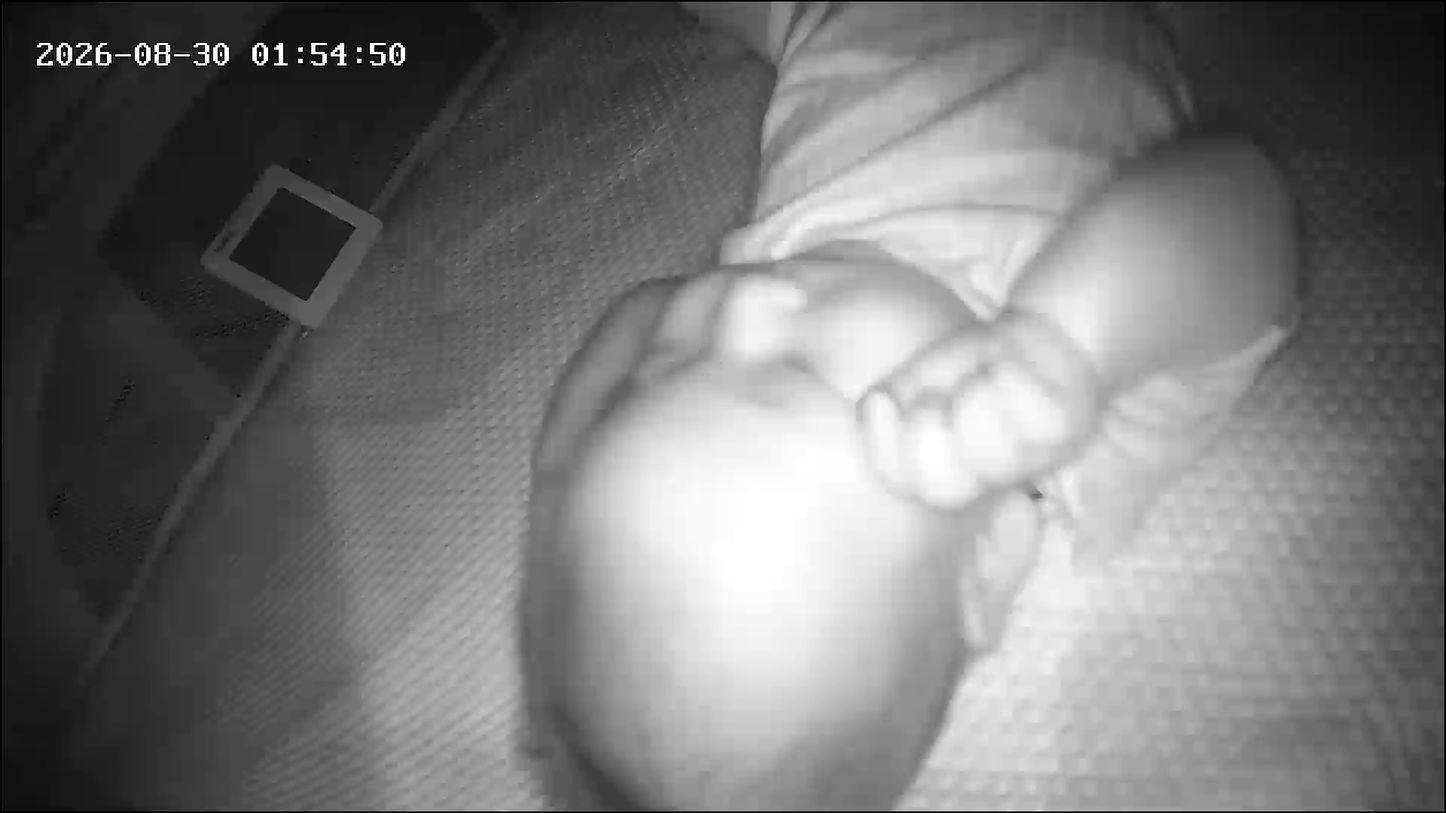baby: (66, 4, 1132, 810), (478, 6, 1348, 808)
baby_face: (526, 230, 1043, 811)
